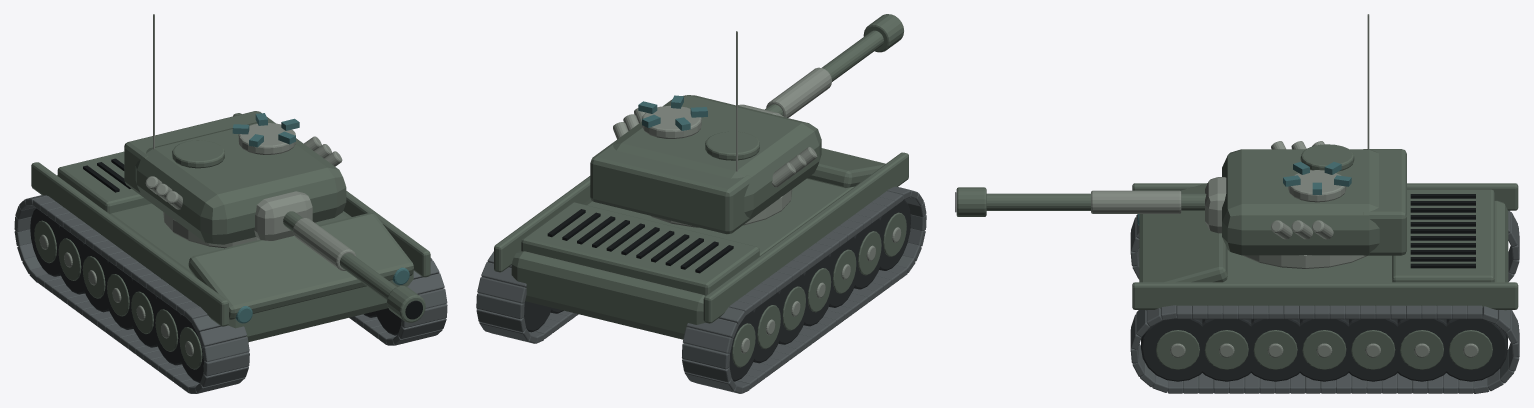
File: tank.glb
3 views of the same model, side by side, from view 1: azimuth 30°, elevation 25°; view 2: azimuth 150°, elevation 25°; view 3: azimuth 270°, elevation 25° (orthographic). The views are drawn at different scales.
Visible parts, largest first — view 1: 焊接炮塔, 前上装甲, 装甲车体, 侧裙_L, 后发动机舱, 炮塔后部储物箱, 炮盾, 侧裙_R, 热护套, 主炮身管, 装填手舱盖, 指挥塔舱盖 (+25 smaller); view 2: 装甲车体, 焊接炮塔, 后发动机舱, 炮塔后部储物箱, 侧裙_L, 侧裙_R, 前上装甲, 热护套, 主炮身管, 装填手舱盖, 指挥塔舱盖, Wheel_L_0 (+26 smaller); view 3: 焊接炮塔, 侧裙_R, 前上装甲, 后发动机舱, 装甲车体, 炮塔后部储物箱, 主炮身管, Wheel_R_0, 热护套, Wheel_R_6, 侧裙_L, Wheel_R_5 (+16 smaller).
Part boxes in pixels (x1=…): 焊接炮塔: x1=135, y1=122, x2=346, y2=244; 前上装甲: x1=188, y1=212, x2=413, y2=319; 装甲车体: x1=57, y1=175, x2=413, y2=342; 侧裙_L: x1=31, y1=162, x2=228, y2=326; 后发动机舱: x1=57, y1=151, x2=151, y2=213; 炮塔后部储物箱: x1=124, y1=111, x2=275, y2=195; 炮盾: x1=254, y1=191, x2=312, y2=241; 侧裙_R: x1=233, y1=113, x2=430, y2=277; 热护套: x1=293, y1=218, x2=356, y2=270; 主炮身管: x1=283, y1=211, x2=396, y2=300; 装填手舱盖: x1=172, y1=140, x2=224, y2=168; 指挥塔舱盖: x1=238, y1=123, x2=295, y2=154; 装甲车体: x1=511, y1=178, x2=854, y2=339; 焊接炮塔: x1=612, y1=95, x2=821, y2=220; 后发动机舱: x1=521, y1=202, x2=759, y2=295; 炮塔后部储物箱: x1=590, y1=142, x2=751, y2=234; 侧裙_L: x1=703, y1=152, x2=908, y2=323; 侧裙_R: x1=494, y1=176, x2=590, y2=272; 前上装甲: x1=807, y1=148, x2=885, y2=187; 热护套: x1=766, y1=67, x2=831, y2=117; 主炮身管: x1=765, y1=30, x2=883, y2=115; 装填手舱盖: x1=705, y1=131, x2=759, y2=160; 指挥塔舱盖: x1=642, y1=105, x2=701, y2=138; Wheel_L_0: x1=877, y1=199, x2=910, y2=270; 焊接炮塔: x1=1222, y1=149, x2=1379, y2=255; 侧裙_R: x1=1132, y1=282, x2=1518, y2=309; 前上装甲: x1=1139, y1=183, x2=1227, y2=282; 后发动机舱: x1=1392, y1=189, x2=1494, y2=282; 装甲车体: x1=1146, y1=200, x2=1508, y2=310; 炮塔后部储物箱: x1=1363, y1=149, x2=1406, y2=255; 主炮身管: x1=986, y1=193, x2=1206, y2=210; Wheel_R_0: x1=1141, y1=318, x2=1209, y2=381; 热护套: x1=1091, y1=190, x2=1181, y2=213; Wheel_R_6: x1=1440, y1=319, x2=1507, y2=381; 侧裙_L: x1=1132, y1=183, x2=1518, y2=210; Wheel_R_5: x1=1391, y1=319, x2=1453, y2=381.
Bounding box in the file's own units: 3.2 × 3.7 × 6.45.
